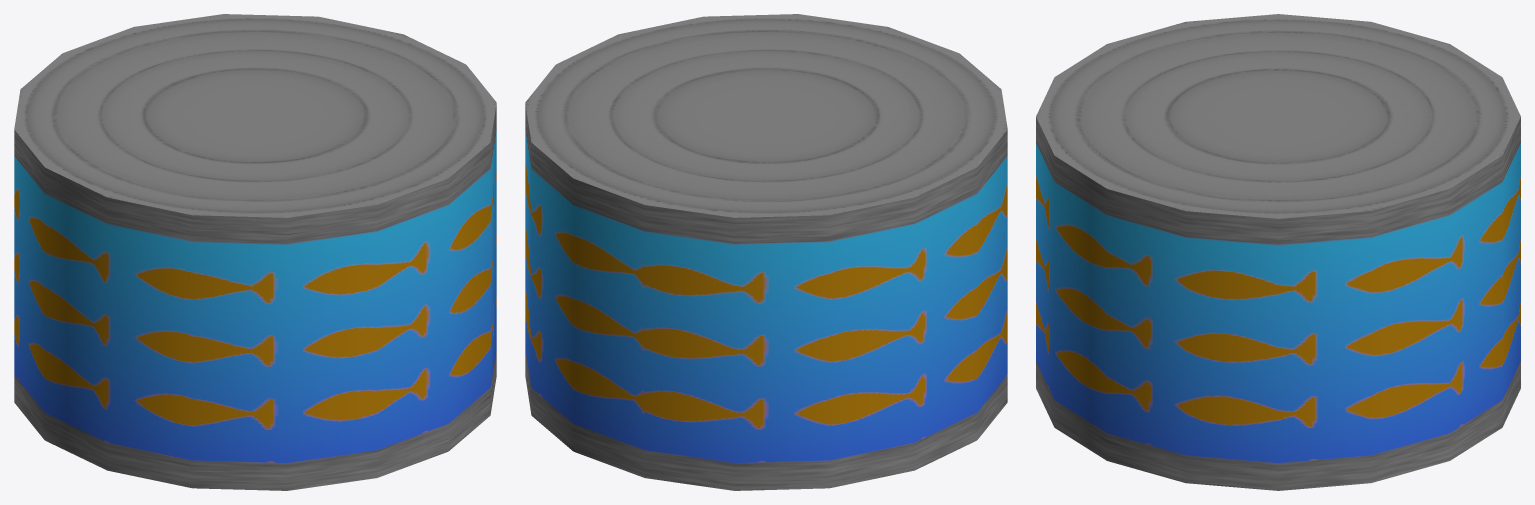
Rendered from tincanfish.glb.
The picture shows the model from 3 angles, left to right: view 1: azimuth 30°, elevation 25°; view 2: azimuth 150°, elevation 25°; view 3: azimuth 270°, elevation 25°; orthographic projection.
Visible parts, largest first — view 1: tincanfish; view 2: tincanfish; view 3: tincanfish.
Boxes of the visible parts, x1=… form: tincanfish: x1=14, y1=14, x2=496, y2=490; tincanfish: x1=525, y1=14, x2=1007, y2=490; tincanfish: x1=1036, y1=14, x2=1520, y2=490.
Bounding box in the file's own units: 0.6386 × 0.3954 × 0.6386.
1 material, 1 textured.
